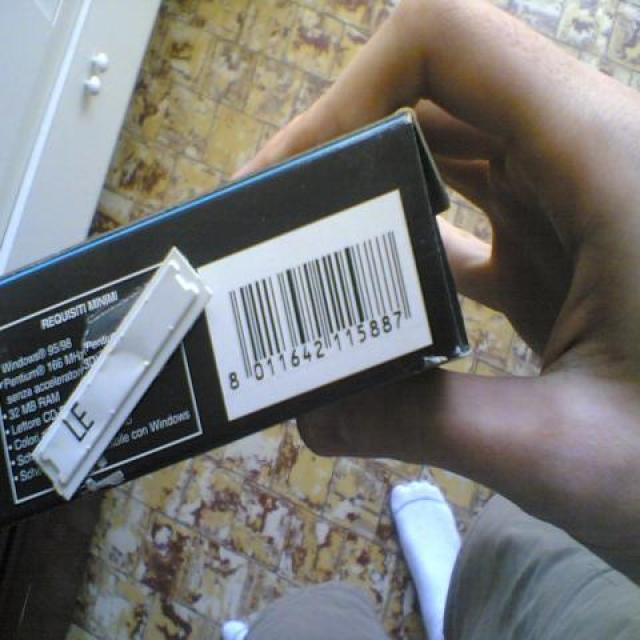Barcode: (196, 188, 433, 424)
